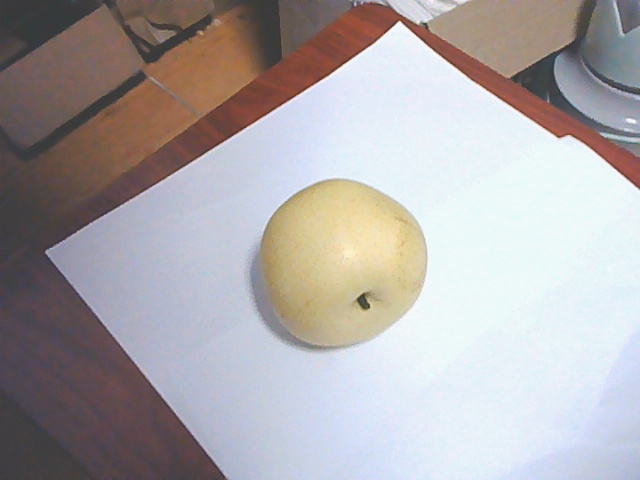pear: (265, 175, 431, 351)
